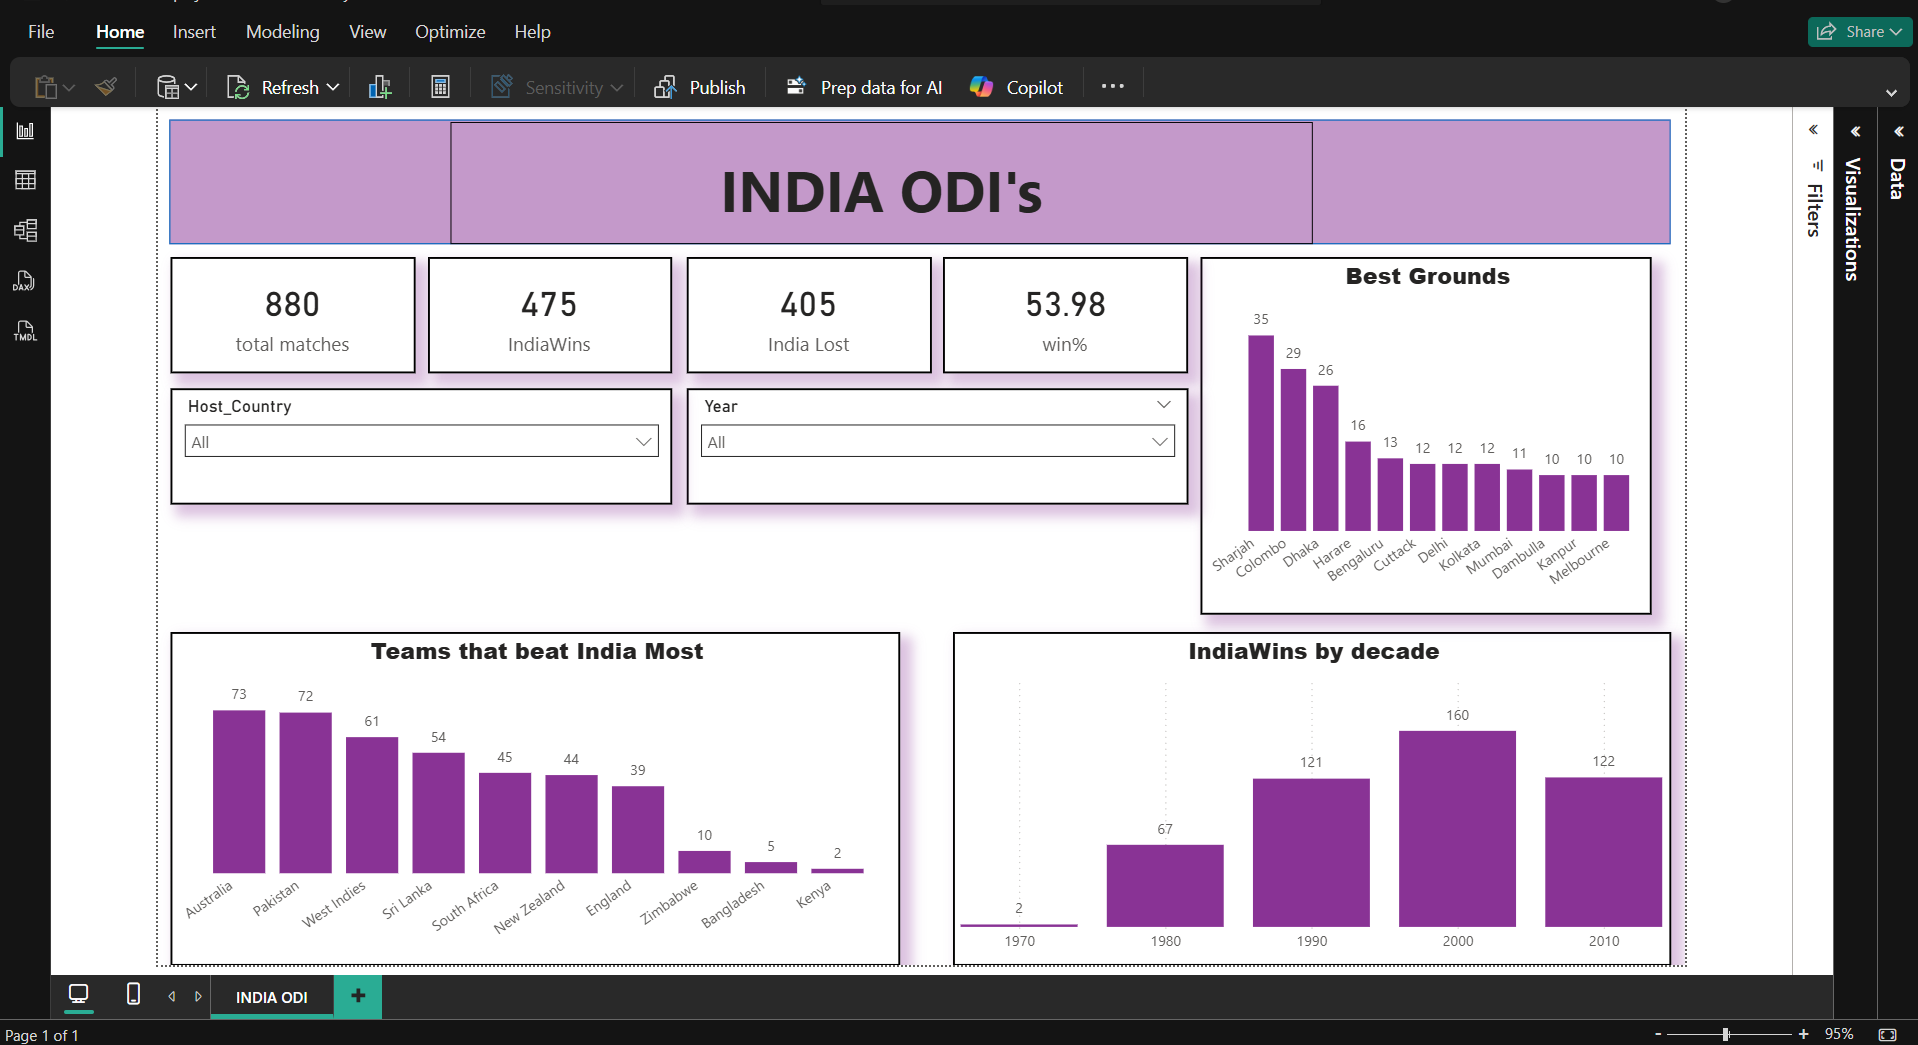

What the dashboard file says about the page in this screenshot:
{"tool":"powerbi","page":{"name":"Page 1","canvas":[1280,720],"ordinal":0},"visuals":[{"type":"clusteredColumnChart","title":"Teams that beat India Most","fields":{"Category":["india_odi_cleaned.Winner"],"Y":["CountNonNull(india_odi_cleaned.Winner)"]},"box":[11,440.5,612,279.9],"z":0},{"type":"clusteredColumnChart","fields":{"Category":["india_odi_cleaned.decade"],"Y":["india_odi_cleaned.IndiaWins"]},"box":[666.9,440.5,602.4,279.9],"z":1},{"type":"clusteredColumnChart","title":"Best Grounds","fields":{"Category":["india_odi_cleaned.Ground"],"Y":["india_odi_cleaned.IndiaWins"]},"box":[874,125.3,378.3,300.4],"z":2},{"type":"card","fields":{"Values":["india_odi_cleaned.total matches"]},"box":[10.5,125.6,205.8,97.7],"z":3},{"type":"card","fields":{"Values":["india_odi_cleaned.IndiaWins"]},"box":[226.7,125.6,204.7,97.7],"z":4},{"type":"card","fields":{"Values":["india_odi_cleaned.India Lost"]},"box":[443,125.6,205.8,97.7],"z":5},{"type":"card","fields":{"Values":["india_odi_cleaned.win%"]},"box":[658.1,125.6,205.8,97.7],"z":6},{"type":"slicer","fields":{"Values":["india_odi_cleaned.Year"]},"box":[443,236,420.9,97.7],"z":7},{"type":"slicer","fields":{"Values":["india_odi_cleaned.Host_Country"]},"box":[10.5,236,420.9,97.7],"z":8},{"type":"shape","box":[9.3,10.5,1259.3,104.7],"z":9},{"type":"textbox","box":[245.3,12.8,723.3,102.3],"z":10}]}

Visuals, with their boxes on the page's 1280x720 design canvas (x1, y1, x2, y2). These are canvas units, not pixel positions in the 1918x1045 screenshot, which may show the page scaled, cropped or inside an application window:
"Teams that beat India Most" clusteredColumnChart: (left=11, top=440, right=623, bottom=720)
clusteredColumnChart - india_odi_cleaned.decade x india_odi_cleaned.IndiaWins: (left=667, top=440, right=1269, bottom=720)
"Best Grounds" clusteredColumnChart: (left=874, top=125, right=1252, bottom=426)
card - india_odi_cleaned.total matches: (left=10, top=126, right=216, bottom=223)
card - india_odi_cleaned.IndiaWins: (left=227, top=126, right=431, bottom=223)
card - india_odi_cleaned.India Lost: (left=443, top=126, right=649, bottom=223)
card - india_odi_cleaned.win%: (left=658, top=126, right=864, bottom=223)
slicer - india_odi_cleaned.Year: (left=443, top=236, right=864, bottom=334)
slicer - india_odi_cleaned.Host_Country: (left=10, top=236, right=431, bottom=334)
shape: (left=9, top=10, right=1269, bottom=115)
textbox: (left=245, top=13, right=969, bottom=115)
